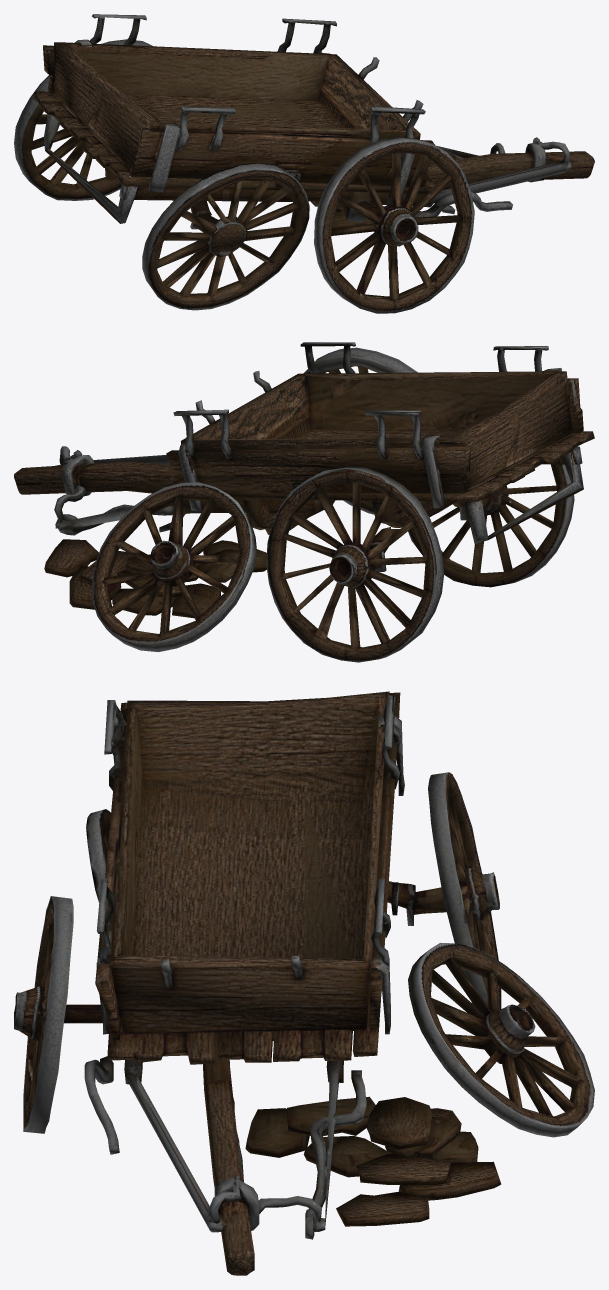
File: tripo_convert_42f6e9cc-49e5-44e4-8746-b9ba38b4b8f9.fbx
3 views of the same model, one above another, from view 1: azimuth 30°, elevation 25°; view 2: azimuth 150°, elevation 25°; view 3: azimuth 270°, elevation 25° (orthographic). The views are drawn at different scales.
Parts seen in each view (by area): view 1: tripo_node_42f6e9cc; view 2: tripo_node_42f6e9cc; view 3: tripo_node_42f6e9cc.
Boxes of the visible parts, bbox=[...] form: tripo_node_42f6e9cc: bbox=[14, 14, 594, 313]; tripo_node_42f6e9cc: bbox=[14, 342, 594, 662]; tripo_node_42f6e9cc: bbox=[14, 691, 594, 1275].
Bounding box in the file's own units: 0.998 × 0.4434 × 0.7402.
Materials: 1 (1 with a texture image).
